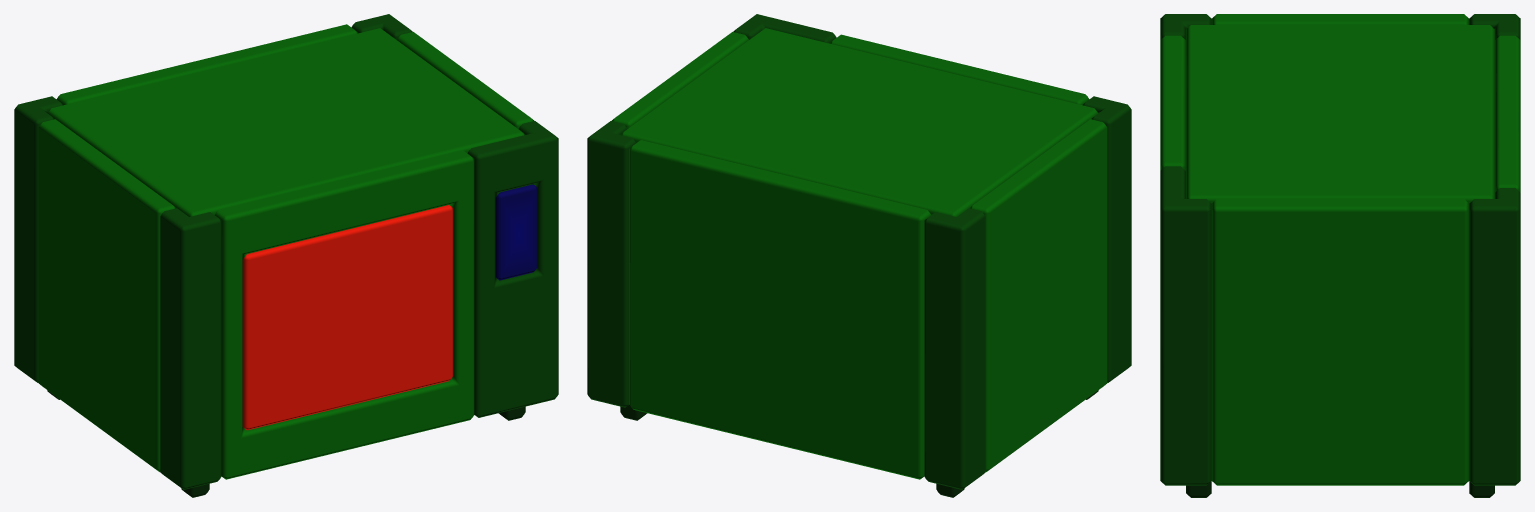
3 views of the same model, side by side, from view 1: azimuth 30°, elevation 25°; view 2: azimuth 150°, elevation 25°; view 3: azimuth 270°, elevation 25° (orthographic). The views are drawn at different scales.
Visible parts, largest first — view 1: Plane.573; view 2: Plane.573; view 3: Plane.573.
Part boxes in pixels (x1=…): Plane.573: x1=14, y1=14, x2=558, y2=497; Plane.573: x1=587, y1=14, x2=1131, y2=497; Plane.573: x1=1160, y1=14, x2=1520, y2=497.
Bounding box in the file's own units: 0.9 × 0.65 × 0.7.
